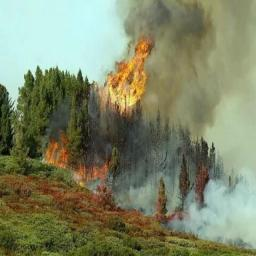Heavy smoke: (126, 0, 256, 250)
Medium fire: (43, 38, 152, 180)
